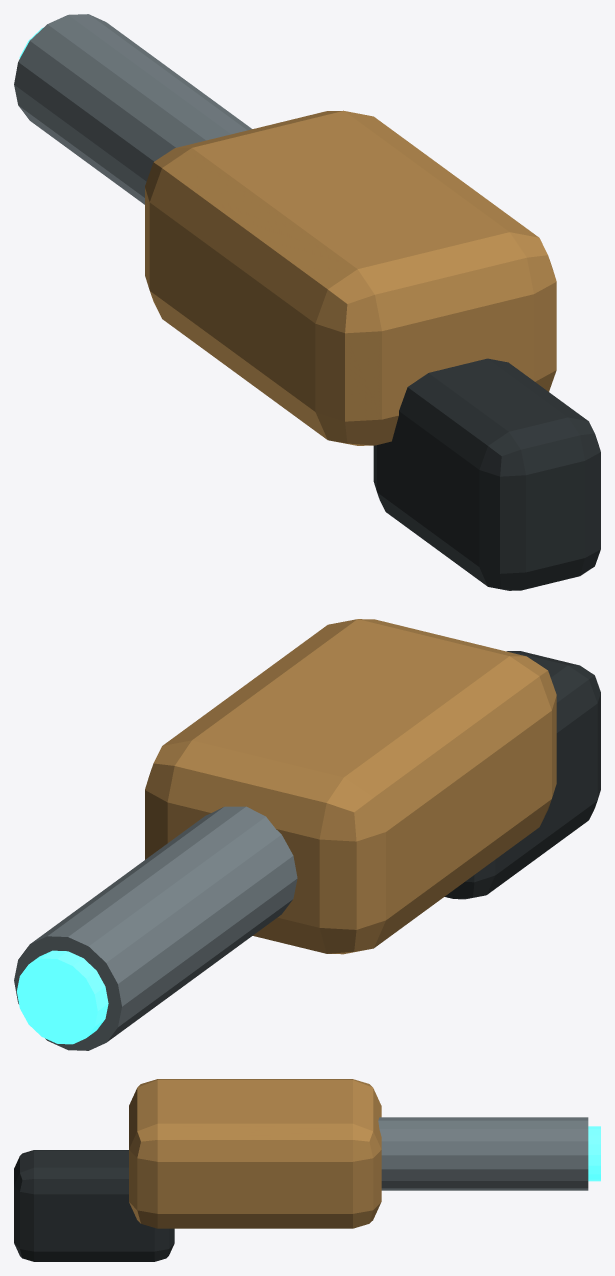
File: held_cutter.glb
The picture shows the model from 3 angles, top to bottom: view 1: azimuth 30°, elevation 25°; view 2: azimuth 150°, elevation 25°; view 3: azimuth 270°, elevation 25°; orthographic projection. The views are drawn at different scales.
Visible parts, largest first — view 1: Cube, Cube.001, Cylinder; view 2: Cube, Cylinder, Cube.001, Cylinder.001; view 3: Cube, Cylinder, Cube.001, Cylinder.001.
Boxes of the visible parts, x1=… form: Cube: x1=145, y1=110, x2=556, y2=445; Cube.001: x1=373, y1=358, x2=600, y2=590; Cylinder: x1=14, y1=14, x2=252, y2=204; Cube: x1=145, y1=619, x2=556, y2=954; Cylinder: x1=14, y1=806, x2=297, y2=1050; Cube.001: x1=444, y1=651, x2=600, y2=899; Cylinder.001: x1=16, y1=950, x2=108, y2=1044; Cube: x1=129, y1=1079, x2=381, y2=1228; Cylinder: x1=378, y1=1117, x2=588, y2=1190; Cube.001: x1=14, y1=1150, x2=174, y2=1261; Cylinder.001: x1=588, y1=1126, x2=600, y2=1181.
Bounding box in the file's own units: 0.14 × 0.145 × 0.511.
